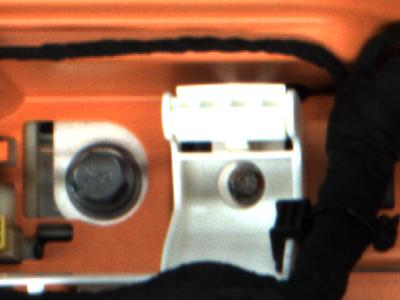nut_b: (58, 144, 150, 221)
